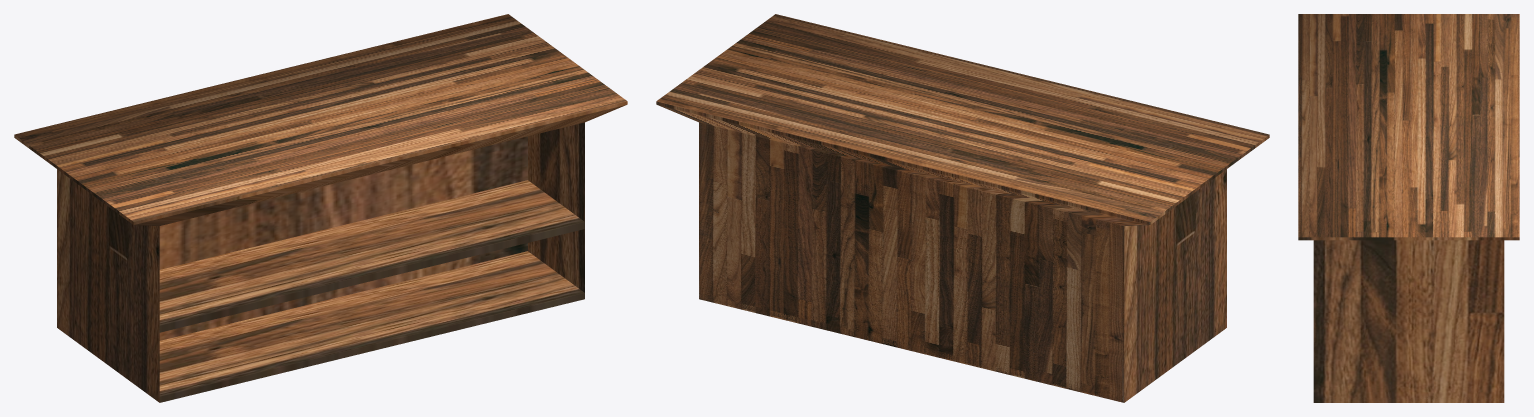
Rendered from bar.glb.
3 renders of one model, left to right at view 1: azimuth 30°, elevation 25°; view 2: azimuth 150°, elevation 25°; view 3: azimuth 270°, elevation 25°, orthographic. The views are drawn at different scales.
Visible parts, largest first — view 1: Cube; view 2: Cube; view 3: Cube.
Boxes of the visible parts, x1,y1,x2,y2 form: Cube: (14, 14, 627, 402); Cube: (656, 14, 1269, 402); Cube: (1298, 14, 1519, 402).
Size of the model in its own units: 23.36 by 8.83 by 9.78.
1 material, 1 textured.
